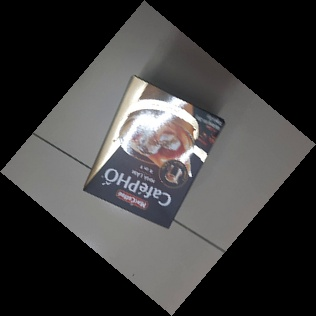CF pho: (81, 74, 227, 229)
